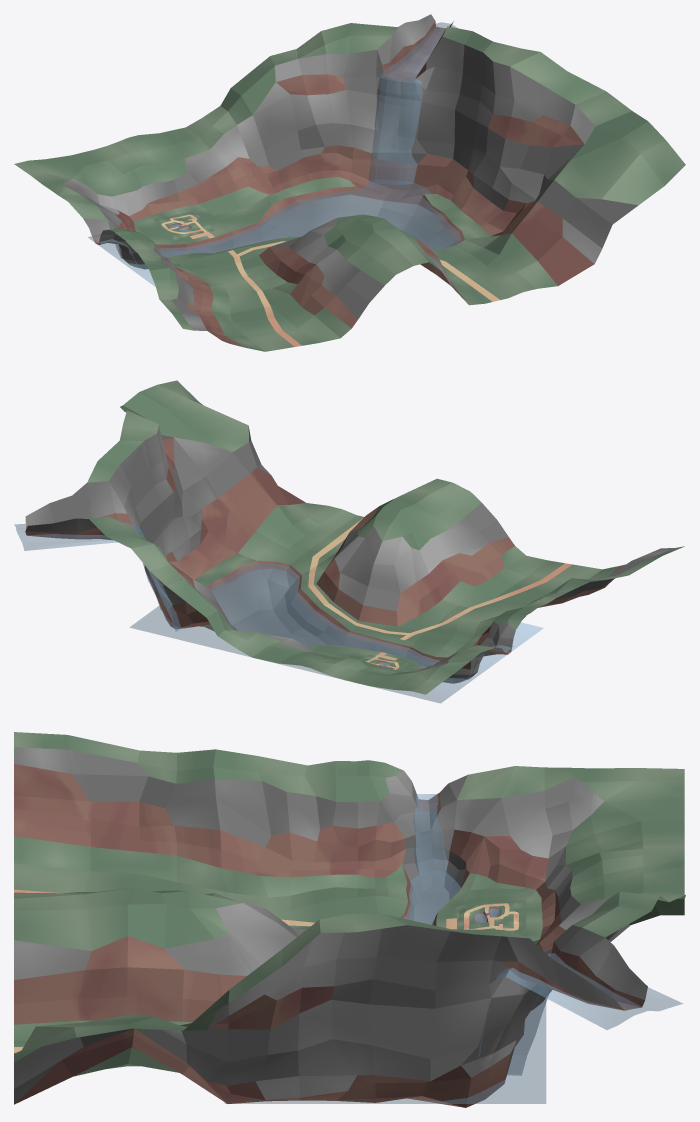
File: landscape_final.fbx
3 views of the same model, one above another, from view 1: azimuth 30°, elevation 25°; view 2: azimuth 150°, elevation 25°; view 3: azimuth 270°, elevation 25° (orthographic). The views are drawn at different scales.
Parts seen in each view (by area): view 1: landscape, lake, large_waterfall; view 2: landscape, lake, large_waterfall; view 3: landscape, lake, large_waterfall, small_waterfall.
Part boxes in pixels (x1,y1,x2,y2): landscape: (14,14,685,351); lake: (88,179,461,286); large_waterfall: (369,22,457,184); landscape: (25,380,684,694); lake: (129,563,543,703); large_waterfall: (14,522,181,631); landscape: (14,732,685,1107); lake: (224,870,546,1103); large_waterfall: (464,953,682,1098); small_waterfall: (413,794,447,874).
Size of the model in its own units: 130391 by 41573 by 95795.
5 materials, 5 textured.
